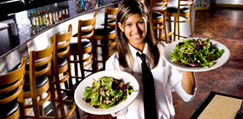pasta: (22, 36, 56, 118), (51, 25, 74, 117), (68, 17, 96, 87), (165, 0, 194, 42), (149, 1, 168, 42)
salad: (136, 52, 157, 117)
